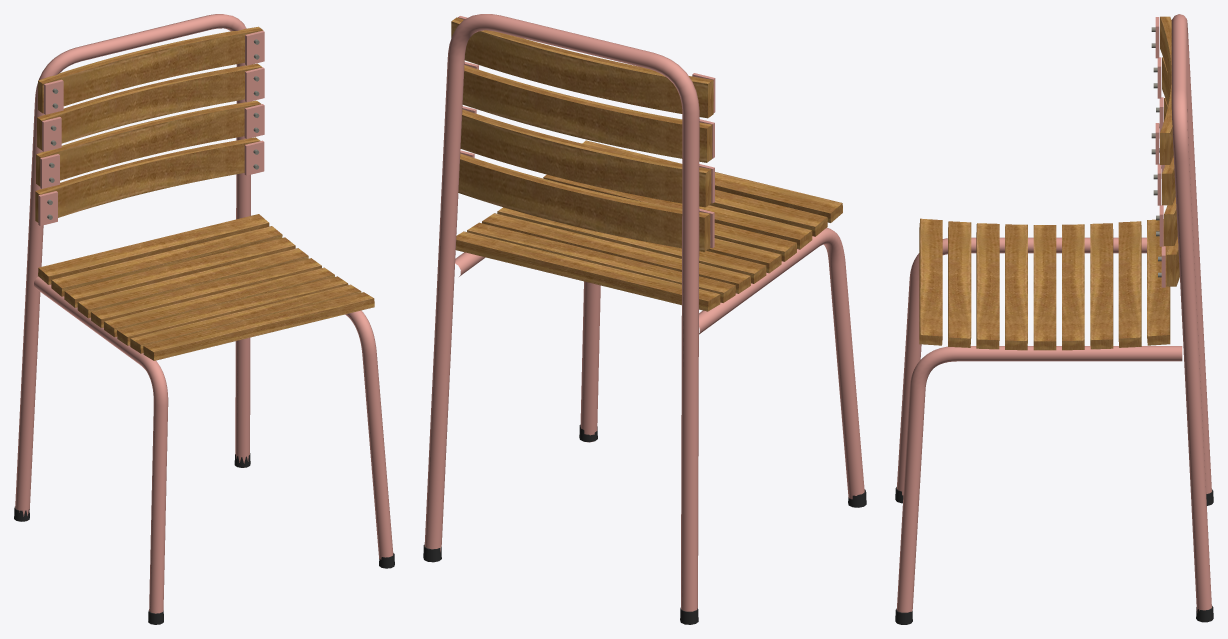
The model's file is pink_slat_chair.glb.
The picture shows the model from 3 angles, left to right: view 1: azimuth 30°, elevation 25°; view 2: azimuth 150°, elevation 25°; view 3: azimuth 270°, elevation 25°; orthographic projection. The views are drawn at different scales.
Visible parts, largest first — view 1: pink_slat_chair; view 2: pink_slat_chair; view 3: pink_slat_chair.
Part boxes in pixels (x1,y1,x2,y2): pink_slat_chair: [14, 14, 394, 624]; pink_slat_chair: [423, 14, 866, 624]; pink_slat_chair: [895, 14, 1213, 624].
Size of the model in its own units: 0.4762 by 0.8734 by 0.4975.
4 materials, 1 textured.
